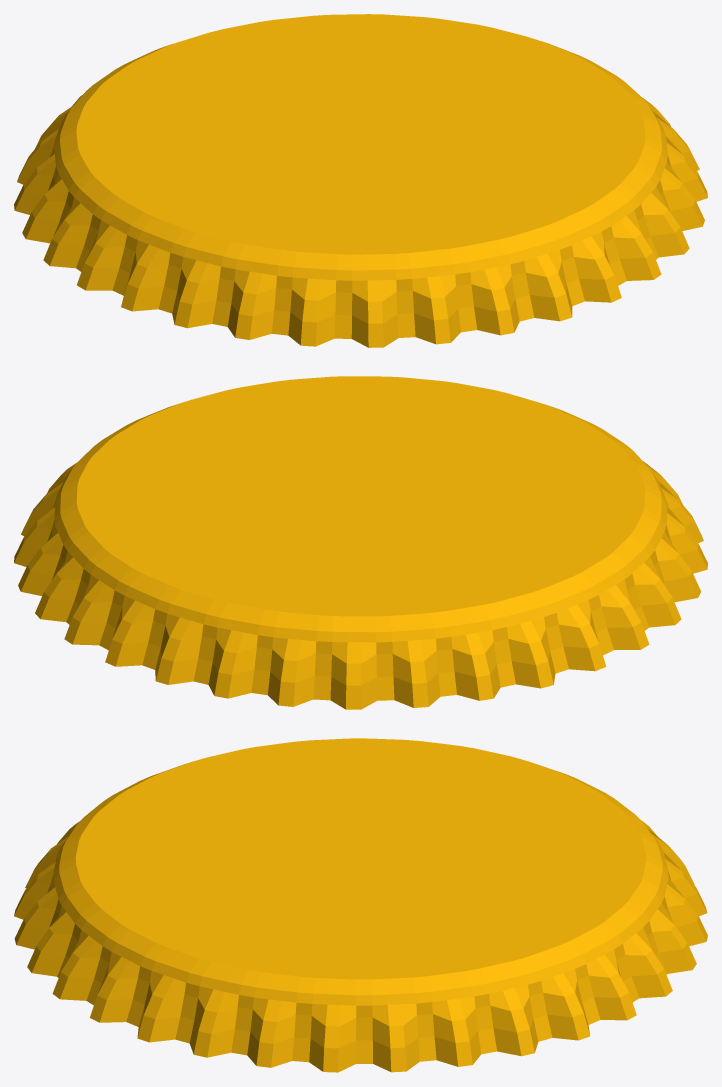
Rendered from kapsel.FBX.
3 renders of one model, top to bottom at view 1: azimuth 30°, elevation 25°; view 2: azimuth 150°, elevation 25°; view 3: azimuth 270°, elevation 25°, orthographic.
Parts seen in each view (by area): view 1: kapsel; view 2: kapsel; view 3: kapsel.
Part boxes in pixels (bbox=[...]): kapsel: bbox=[14, 14, 707, 347]; kapsel: bbox=[14, 376, 707, 709]; kapsel: bbox=[14, 738, 707, 1072].
Size of the model in its own units: 394 by 41.99 by 394.
